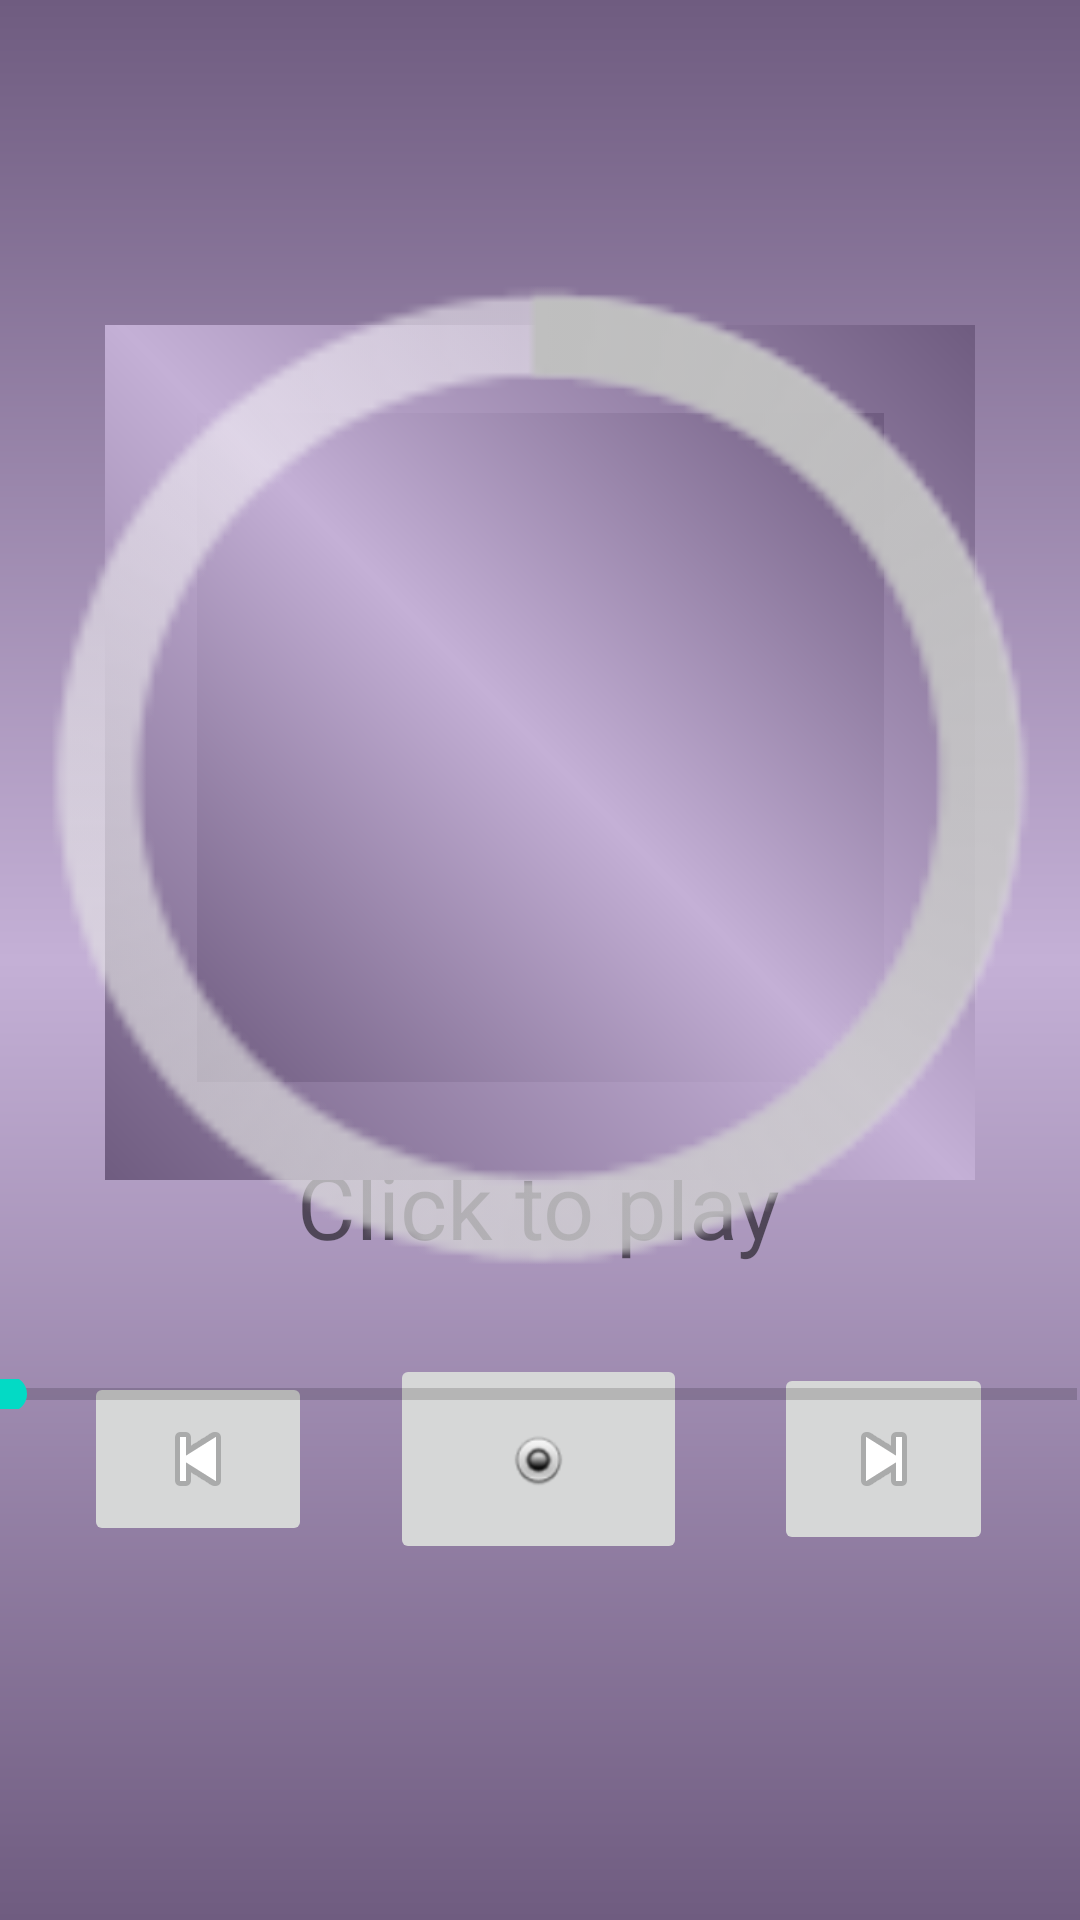

Named icons in this screenshot (1080 × 1920) and their bounding boxes, (x1, y1, x2, y2):
next: (774, 1381, 993, 1537)
previous: (96, 1390, 300, 1528)
